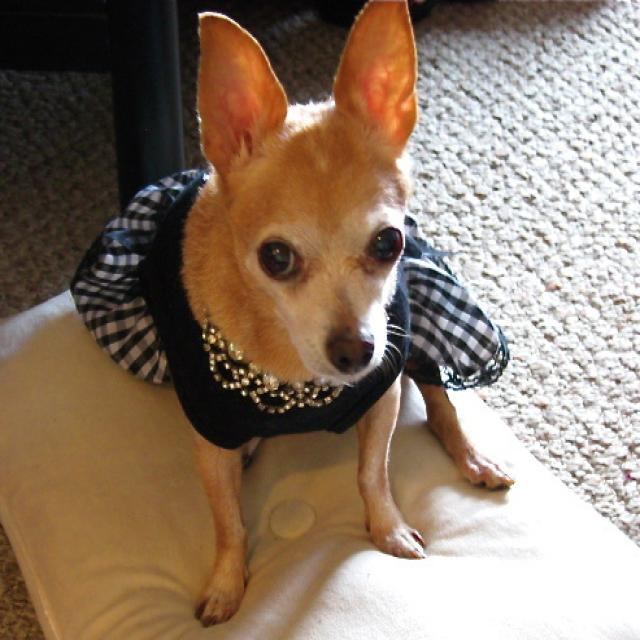dog-chihuahua: (175, 1, 531, 569)
